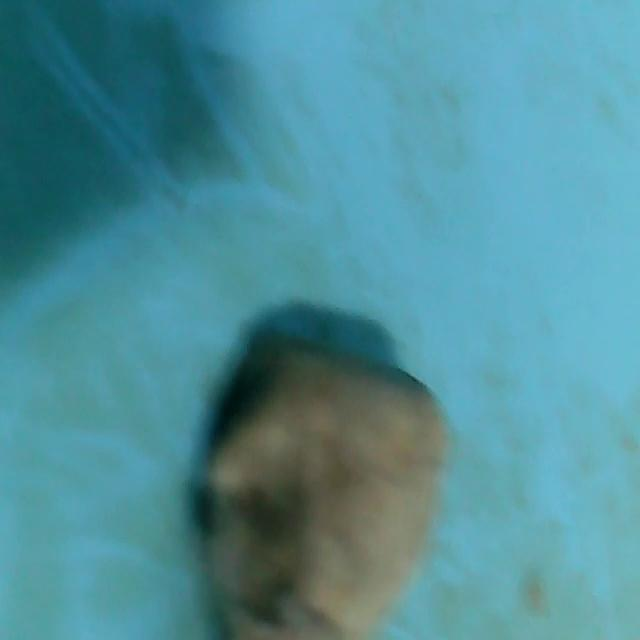rock: (192, 338, 455, 640)
